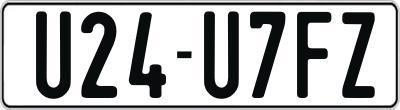2: (79, 12, 120, 98)
4: (128, 9, 169, 100)
7: (249, 10, 290, 100)
F: (297, 9, 336, 100)
U: (201, 8, 242, 99), (33, 8, 69, 100)
Z: (339, 12, 378, 102)
